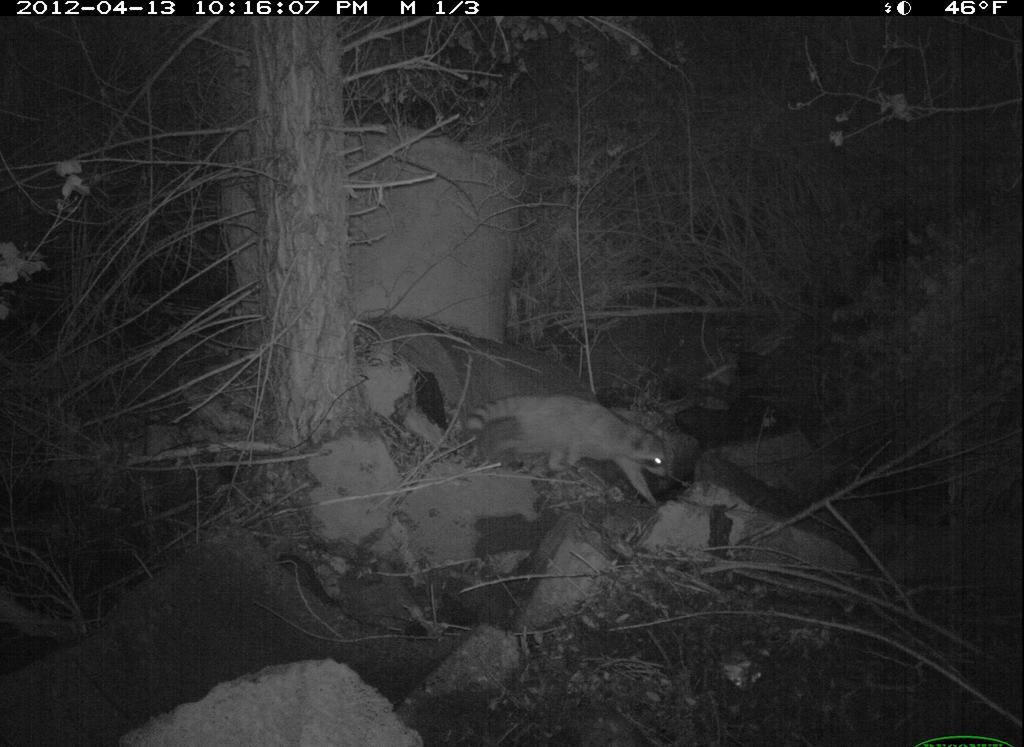raccoon: (463, 387, 680, 513)
